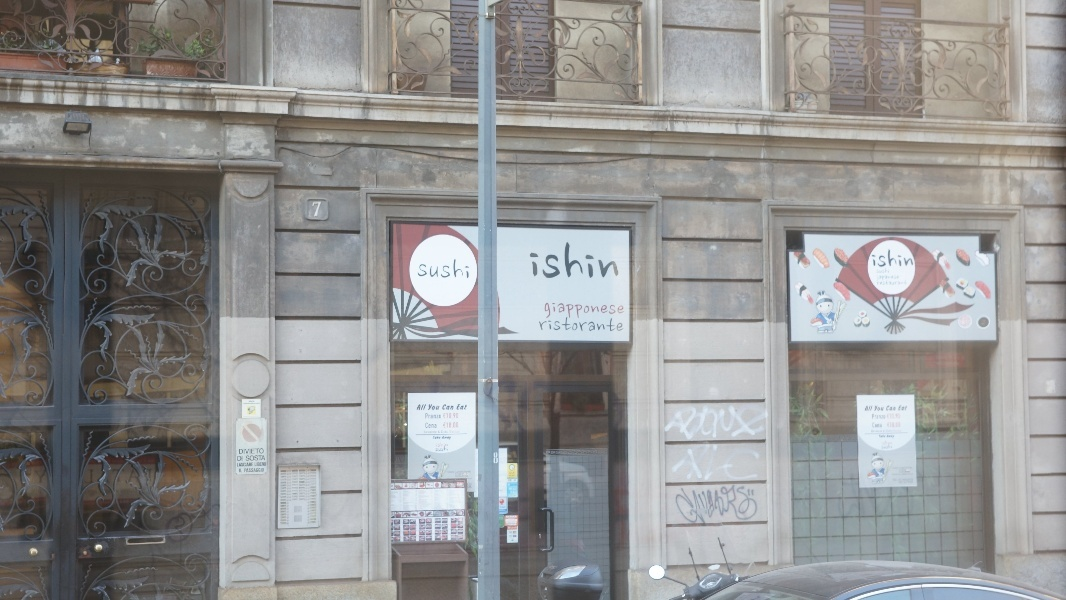text: (673, 485, 688, 529), (689, 485, 704, 529), (705, 485, 720, 529), (721, 485, 736, 529), (737, 485, 752, 529), (689, 441, 704, 482), (705, 441, 720, 482), (721, 441, 736, 482), (737, 441, 752, 482), (529, 242, 544, 280), (545, 242, 560, 280), (561, 242, 576, 280), (577, 242, 592, 280), (593, 242, 608, 280), (673, 406, 688, 441), (689, 406, 704, 441), (705, 406, 720, 441), (721, 406, 736, 441), (737, 406, 752, 441), (753, 406, 768, 441), (609, 242, 620, 280), (753, 441, 762, 482), (433, 259, 448, 280), (449, 259, 464, 280), (753, 485, 760, 529), (881, 249, 896, 269), (897, 249, 912, 269), (609, 303, 625, 319), (881, 271, 896, 288), (420, 259, 432, 280), (545, 317, 560, 333), (561, 317, 576, 333), (577, 317, 592, 333), (593, 317, 608, 333), (609, 317, 624, 333), (545, 303, 560, 319), (561, 303, 576, 319), (577, 303, 592, 319), (593, 303, 608, 319), (897, 271, 909, 288), (871, 249, 880, 269), (449, 471, 464, 480), (537, 317, 544, 333), (241, 448, 256, 455), (465, 259, 470, 280), (419, 404, 432, 411), (670, 485, 672, 529), (875, 271, 880, 288), (866, 406, 880, 412), (435, 446, 448, 452), (241, 462, 254, 468), (449, 413, 460, 420), (449, 422, 460, 429), (244, 467, 256, 473), (465, 471, 473, 480), (433, 413, 443, 420), (246, 455, 256, 462), (242, 400, 256, 405), (435, 443, 448, 448), (433, 404, 441, 412), (257, 455, 266, 462), (887, 405, 896, 412), (433, 436, 448, 440), (900, 406, 912, 411), (513, 472, 519, 482), (433, 430, 448, 434), (257, 448, 265, 455), (872, 414, 880, 421), (449, 403, 455, 412), (458, 403, 464, 412), (257, 462, 267, 467), (507, 472, 512, 482), (425, 413, 432, 420), (873, 422, 880, 429), (257, 467, 265, 473), (449, 430, 461, 434), (425, 423, 432, 429), (881, 414, 887, 421), (687, 441, 688, 482), (913, 249, 915, 269), (444, 403, 448, 412), (465, 403, 469, 412), (433, 423, 439, 429), (875, 405, 880, 412), (769, 406, 770, 441), (424, 430, 432, 434), (881, 405, 885, 412), (429, 404, 432, 412), (443, 436, 448, 440), (257, 400, 261, 405), (237, 456, 240, 462), (241, 456, 244, 462), (237, 462, 240, 468), (543, 303, 544, 319), (881, 422, 883, 429), (449, 436, 452, 440), (241, 469, 243, 473), (447, 413, 448, 420), (447, 422, 448, 429), (239, 448, 240, 455), (255, 462, 256, 467), (239, 469, 240, 473)
